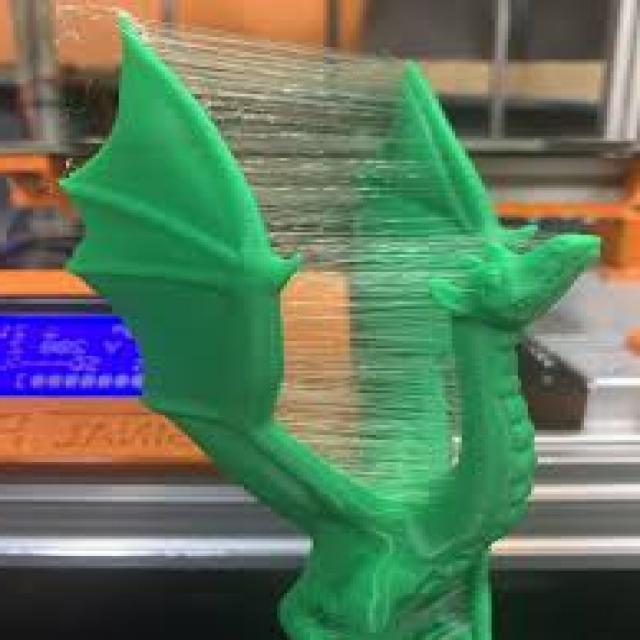Stringing: (130, 20, 473, 506)
